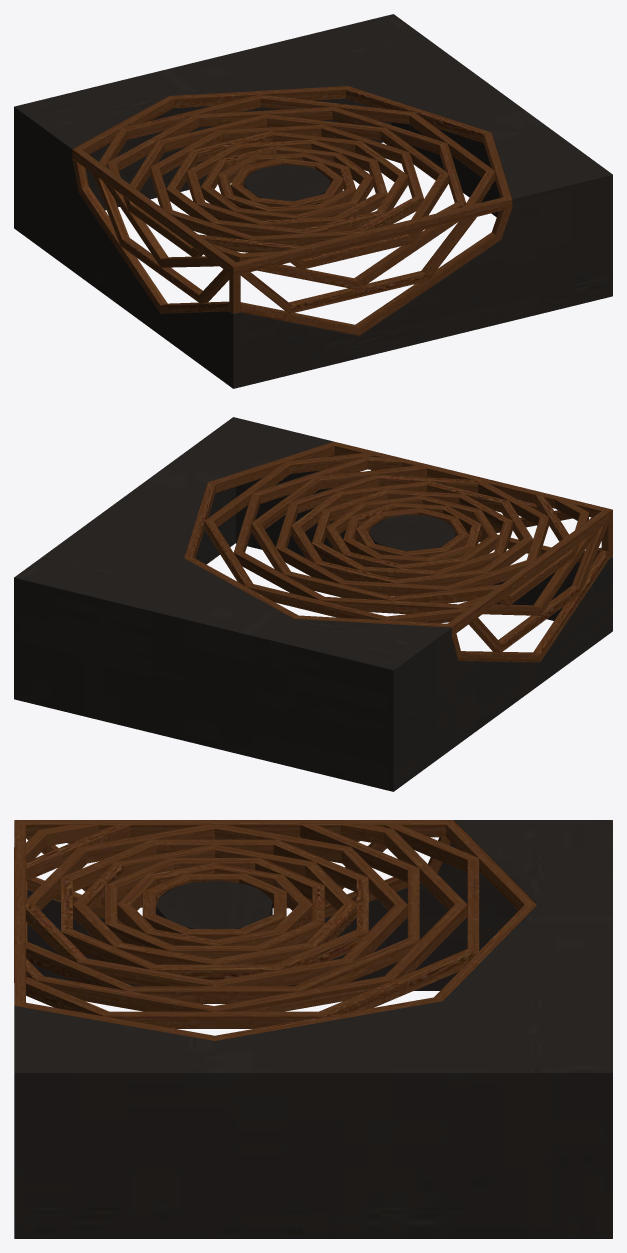
Rendered from modern_coffee_table_02.glb.
The picture shows the model from 3 angles, top to bottom: view 1: azimuth 30°, elevation 25°; view 2: azimuth 150°, elevation 25°; view 3: azimuth 270°, elevation 25°; orthographic projection. The views are drawn at different scales.
Visible parts, largest first — view 1: modern_coffee_table_02; view 2: modern_coffee_table_02; view 3: modern_coffee_table_02.
Part boxes in pixels (x1=…): modern_coffee_table_02: x1=14, y1=14, x2=612, y2=388; modern_coffee_table_02: x1=14, y1=417, x2=612, y2=791; modern_coffee_table_02: x1=14, y1=820, x2=612, y2=1238.
Bounding box in the file's own units: 1.2 × 0.3692 × 1.2.
Materials: 2 (2 with a texture image).
